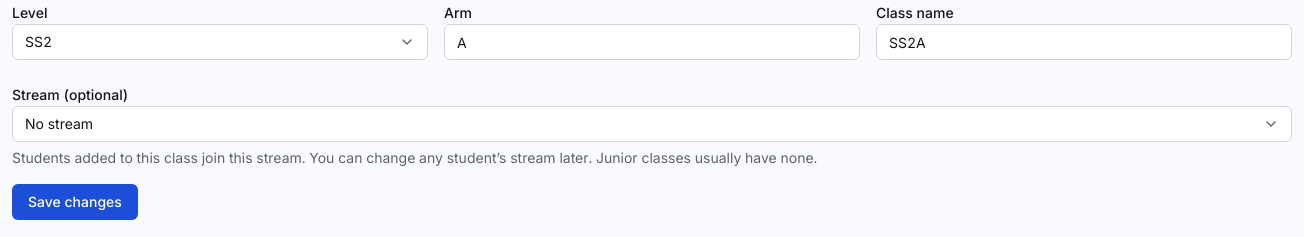
Test: ClassForm stream (ADR-0038) › offers only active streams
Click the dropdown labelled "No stream": (59, 124) [12,106,1292,142]
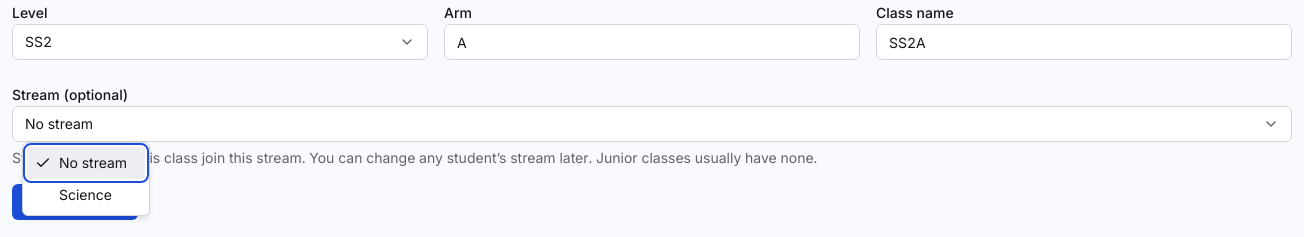
Expected: the option "Science" is shown, [59,186,112,203]
